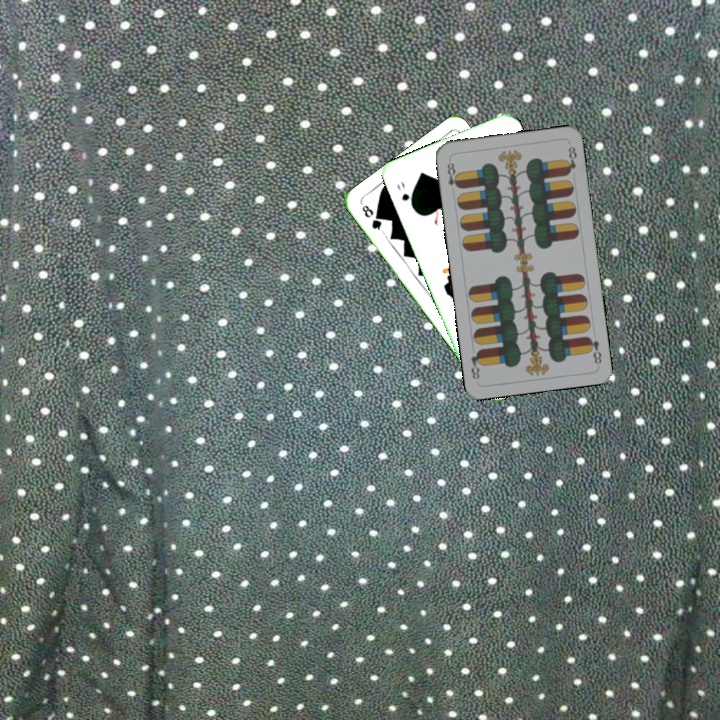E8: (583, 333, 604, 367), (443, 158, 462, 191)
G8: (358, 201, 386, 235)
GO: (393, 177, 416, 211)
